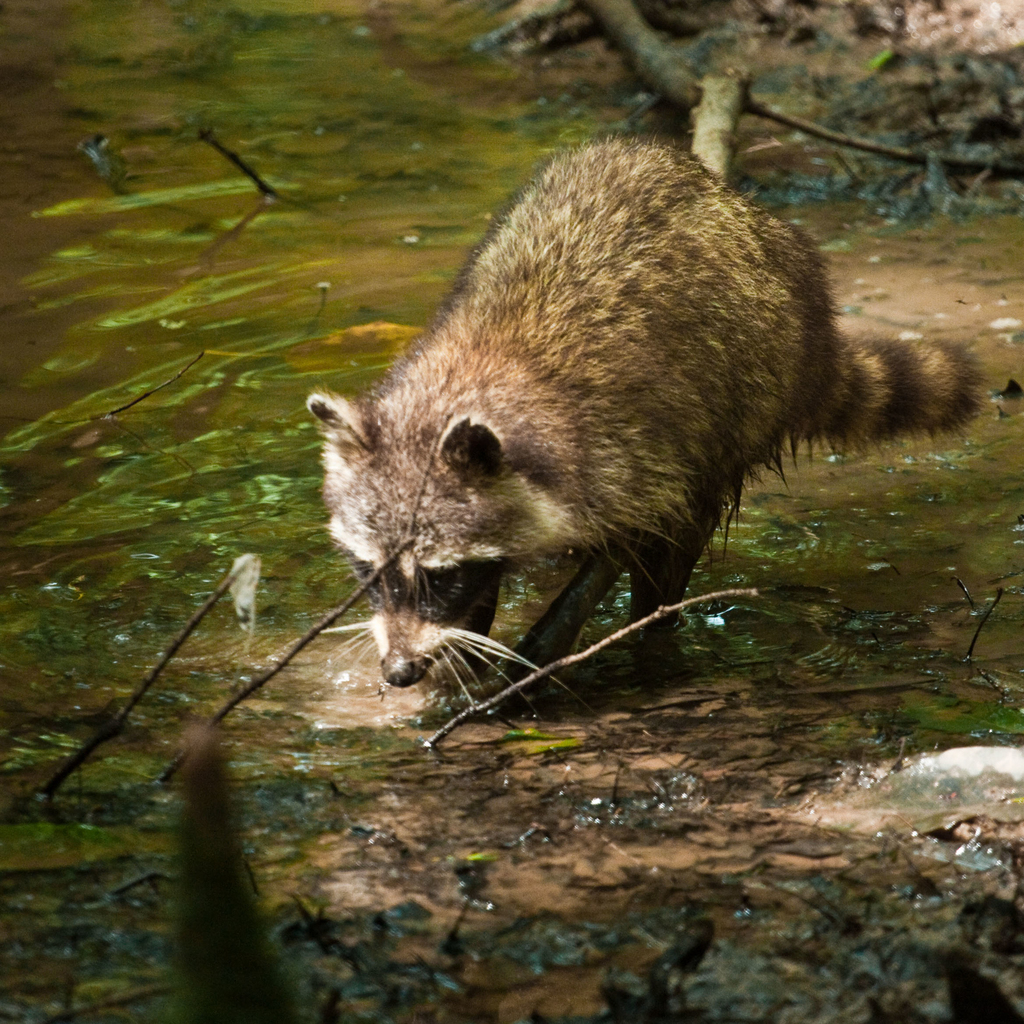raccoon: (303, 134, 972, 686)
